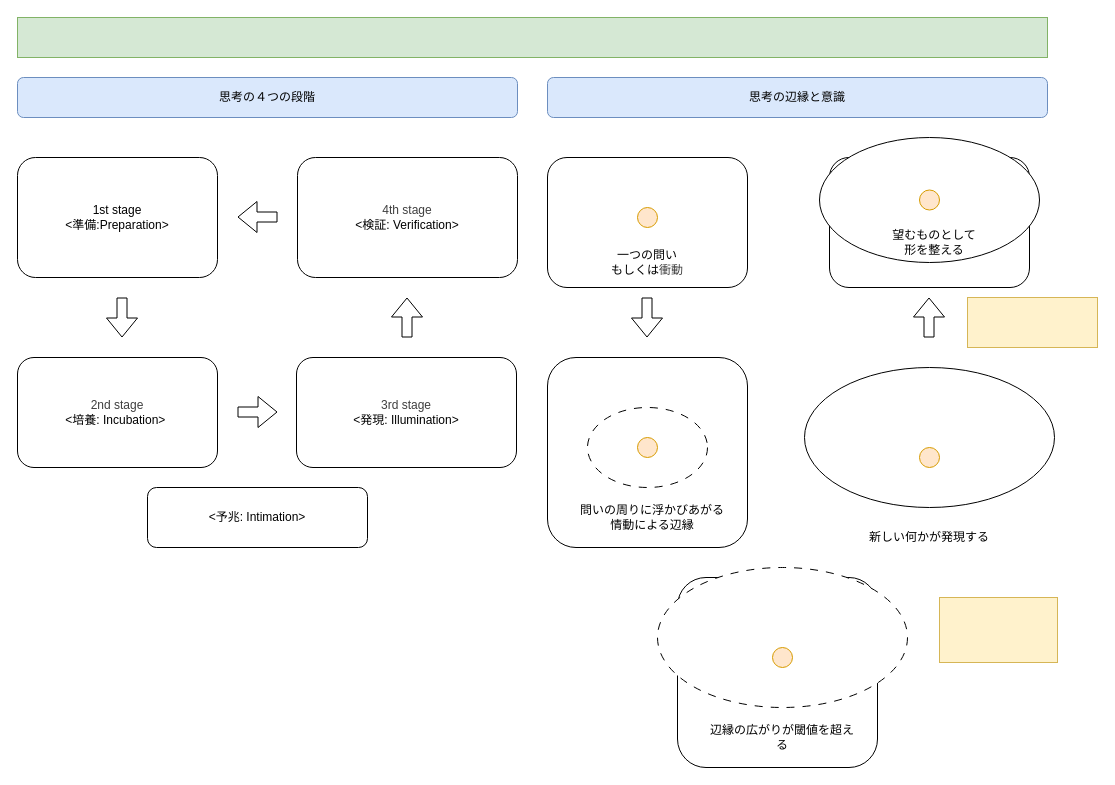
This 1115x785 diagram has some shape labels left out. Each missing label, with the centre of its shape:
この段階で 削られたものが 詩であり、散文: the point at 1032,322
予兆とは はみ出たものの 違和感であり不安: the point at 998,629
思考の技法 思考のプロセス: the point at 532,37
